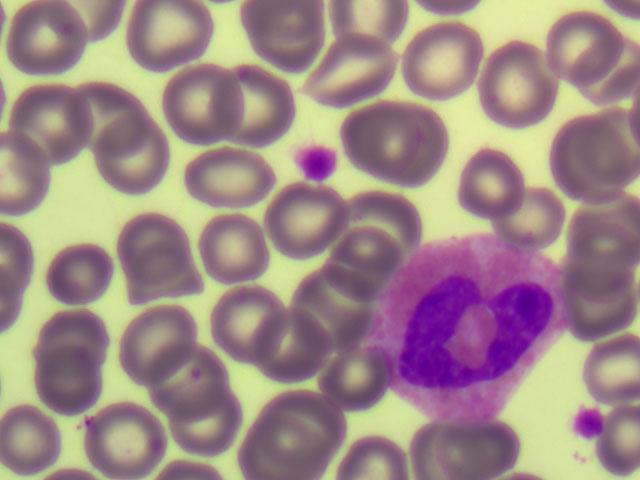Platelets: (299, 144, 335, 180), (579, 409, 603, 438)
RBC: (343, 109, 448, 178), (552, 124, 635, 203), (71, 78, 147, 158), (94, 115, 169, 194), (209, 285, 289, 359), (566, 258, 638, 339), (14, 85, 90, 160), (182, 145, 277, 205), (8, 2, 86, 75), (483, 43, 552, 124), (117, 213, 190, 287), (295, 271, 370, 343), (87, 405, 164, 475), (122, 308, 195, 381), (169, 68, 239, 141), (128, 1, 204, 68), (152, 343, 223, 414), (223, 70, 295, 140), (243, 418, 324, 480), (265, 392, 341, 458), (572, 195, 640, 267), (566, 233, 639, 300), (549, 18, 623, 84), (323, 37, 398, 101), (339, 192, 420, 251), (252, 314, 325, 378), (460, 148, 525, 219), (33, 345, 104, 408), (408, 29, 475, 95), (251, 10, 321, 73), (171, 386, 237, 452), (199, 216, 267, 280), (586, 107, 640, 185), (490, 188, 565, 244), (271, 186, 339, 246), (577, 37, 639, 102), (330, 1, 398, 59), (332, 231, 395, 291), (585, 337, 640, 404), (1, 134, 50, 209), (322, 350, 383, 410), (49, 248, 111, 305), (4, 406, 57, 470), (334, 435, 411, 479), (38, 313, 106, 362), (237, 1, 313, 43), (131, 250, 194, 299), (47, 1, 116, 45), (604, 402, 640, 472), (1, 220, 34, 292), (2, 265, 23, 330), (414, 1, 481, 17)
WBC: (385, 233, 551, 415)
